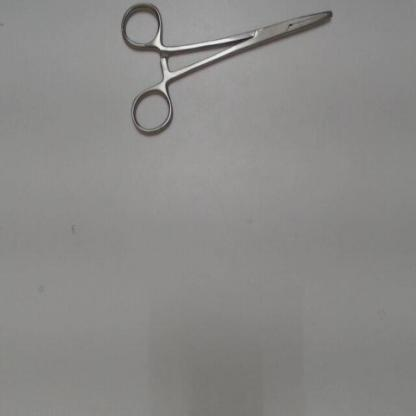Mayo Needle Holder: (114, 1, 345, 145)
